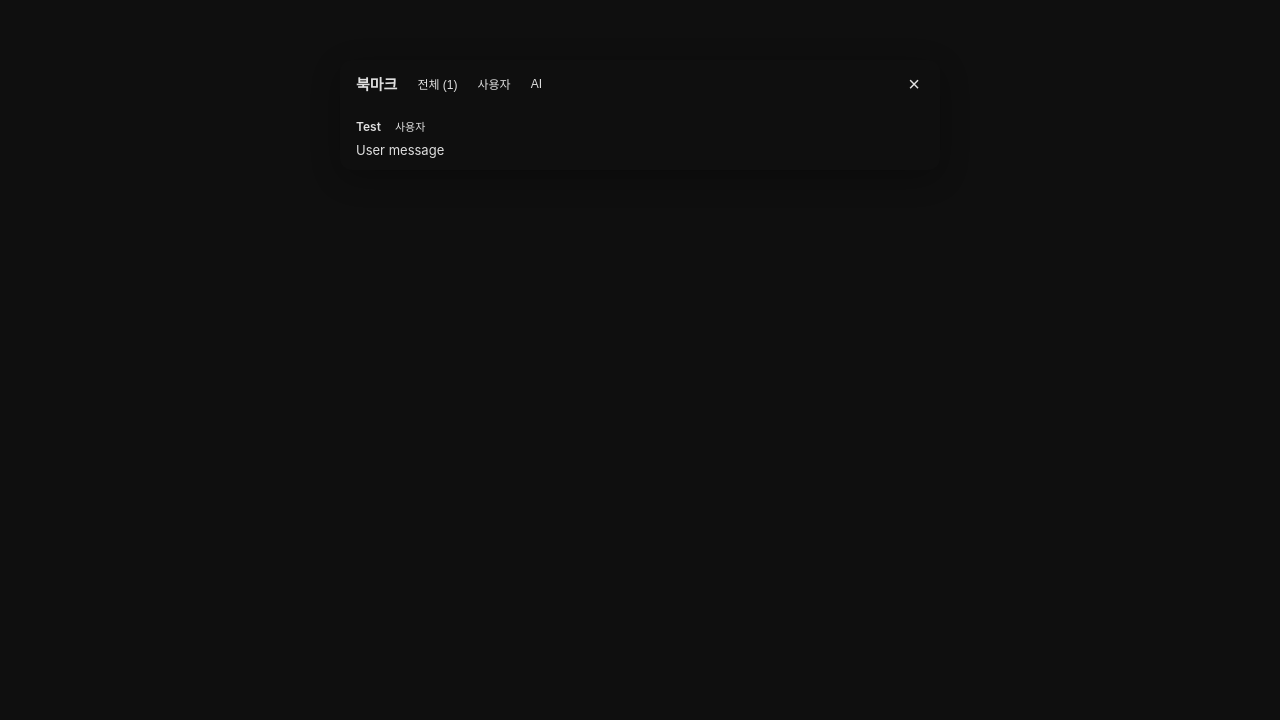
Scenario: BookmarkedMessages › shows filtered-empty message when filter has no results
Step 1. Click the button with aria-label "AI 필터" → (536, 84), box [523,72,550,95]
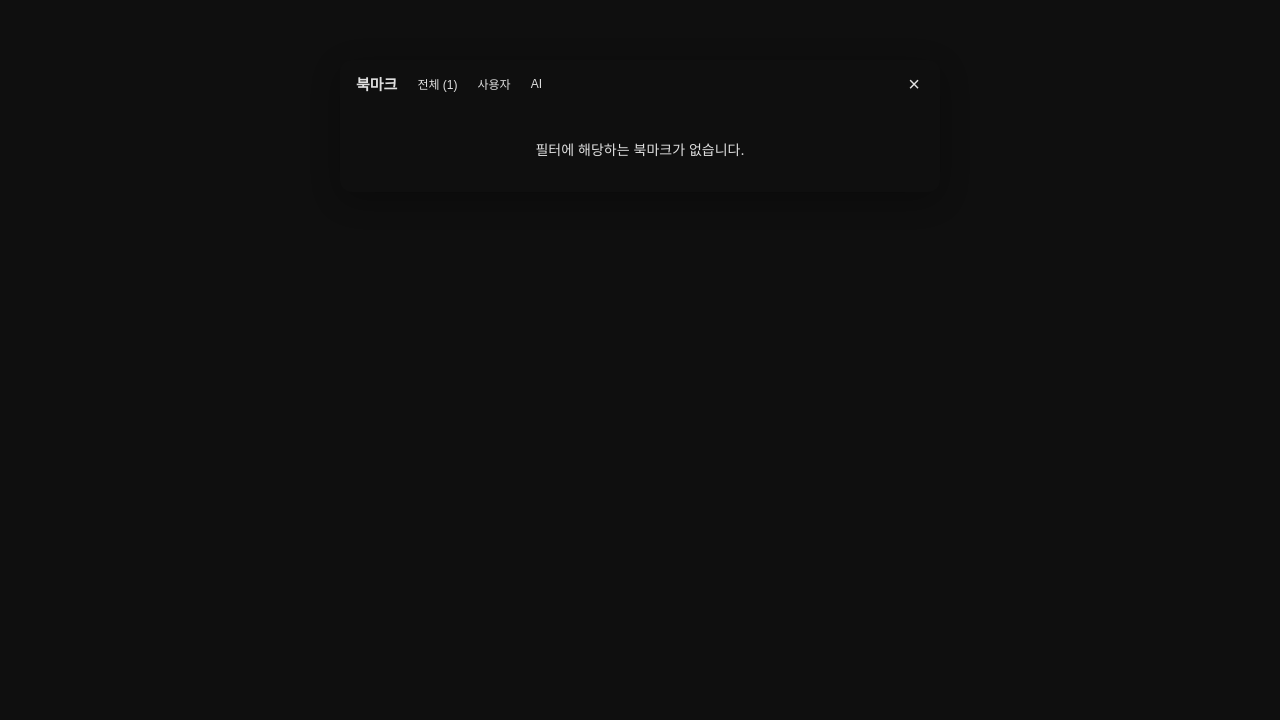
Result: the text "필터에 해당하는 북마크가 없습니다." is shown at [536,141,744,158]
